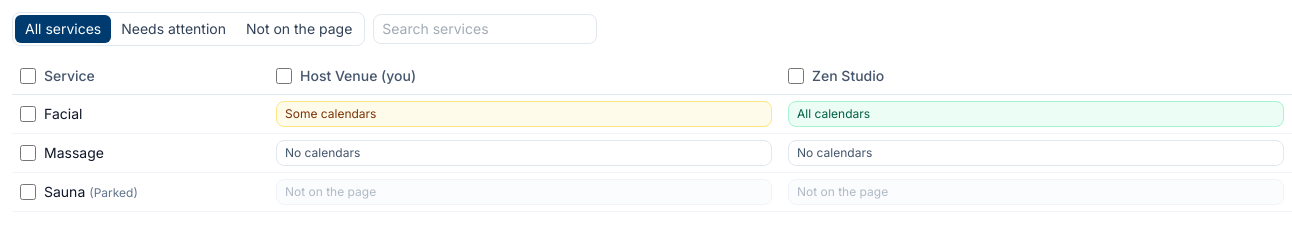
it: the grid › shows the venue services that are not on the page under its own filter
Step 1. Click the 1st button "Not on the page" → (299, 29), box [236, 15, 362, 43]
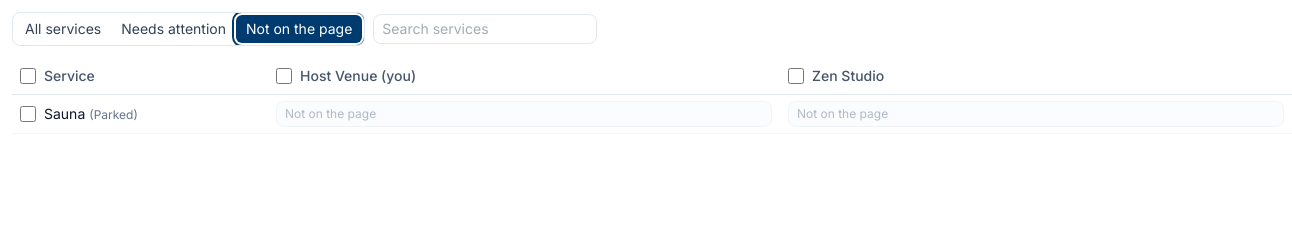
Expected: the column heading "Sauna(Parked)" is shown, [12, 94, 268, 134]
Expected: the text "Facial" is gone
